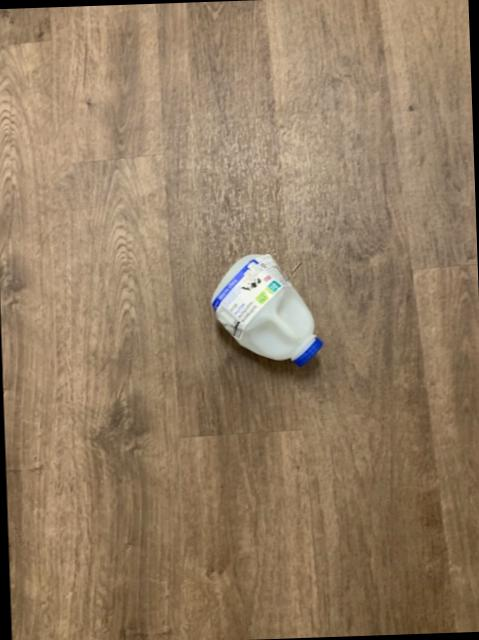plastic: (213, 252, 322, 363)
